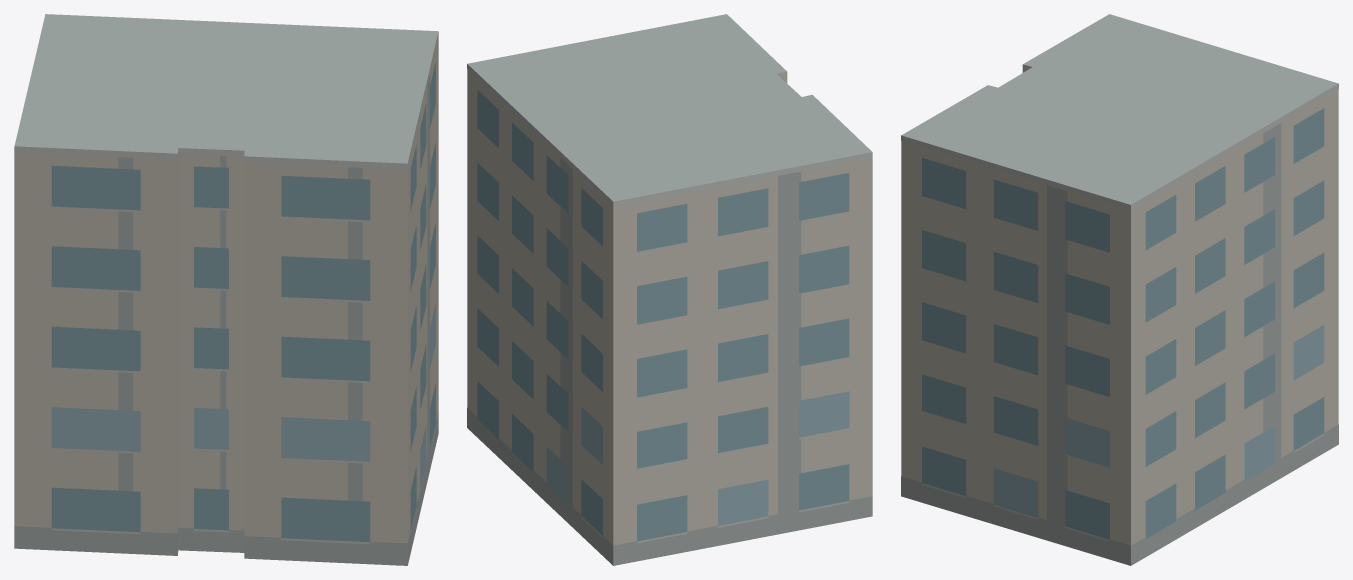
The model's file is survey-upis-32829818.glb.
The picture shows the model from 3 angles, left to right: view 1: azimuth 30°, elevation 25°; view 2: azimuth 150°, elevation 25°; view 3: azimuth 270°, elevation 25°; orthographic projection. The views are drawn at different scales.
Parts seen in each view (by area): view 1: survey-upis-32829818.tmp; view 2: survey-upis-32829818.tmp; view 3: survey-upis-32829818.tmp.
Part boxes in pixels (<box>): survey-upis-32829818.tmp: <box>14,14,438,565</box>; survey-upis-32829818.tmp: <box>467,14,872,565</box>; survey-upis-32829818.tmp: <box>901,14,1338,565</box>.
Bounding box in the file's own units: 17.7 × 15.6 × 17.15.
